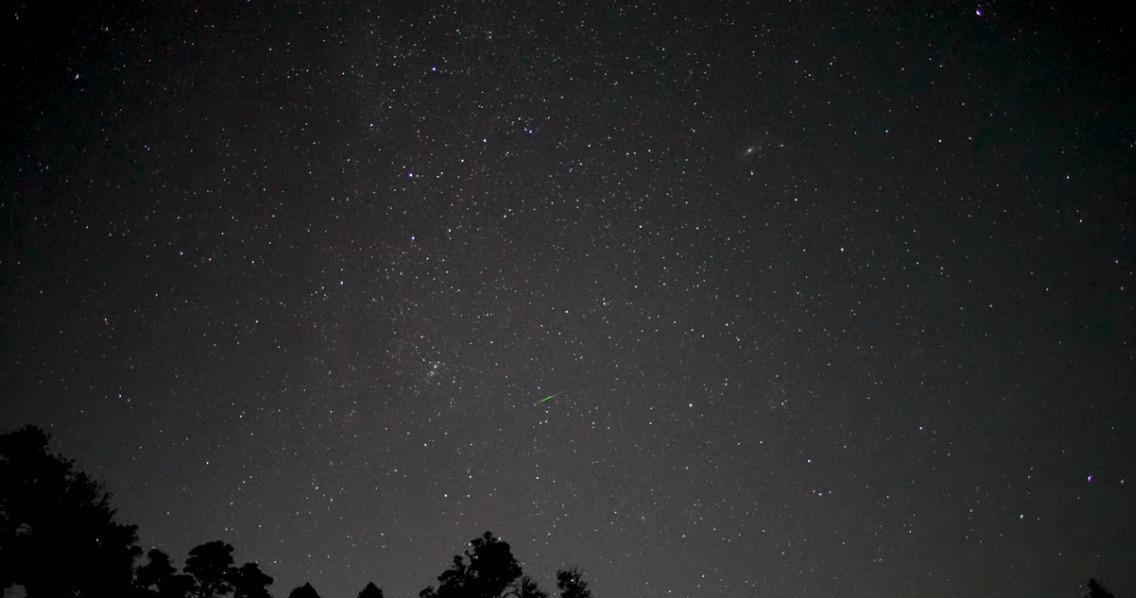meteorite: (514, 389, 573, 411)
